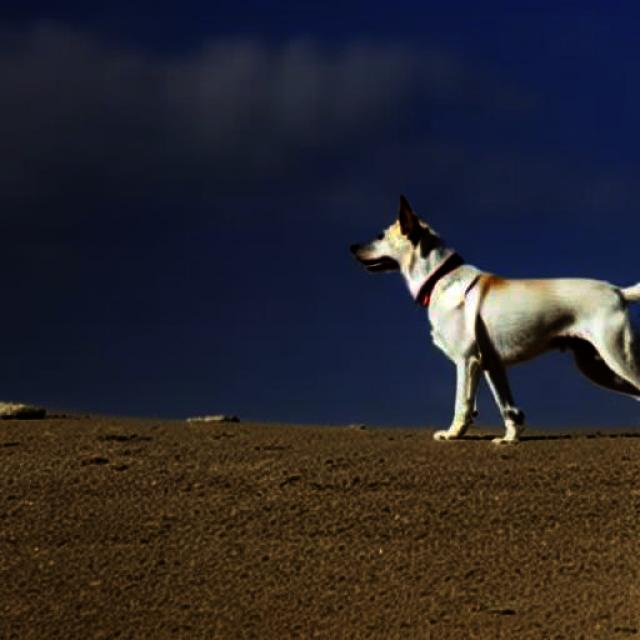Dog: (351, 192, 640, 444)
